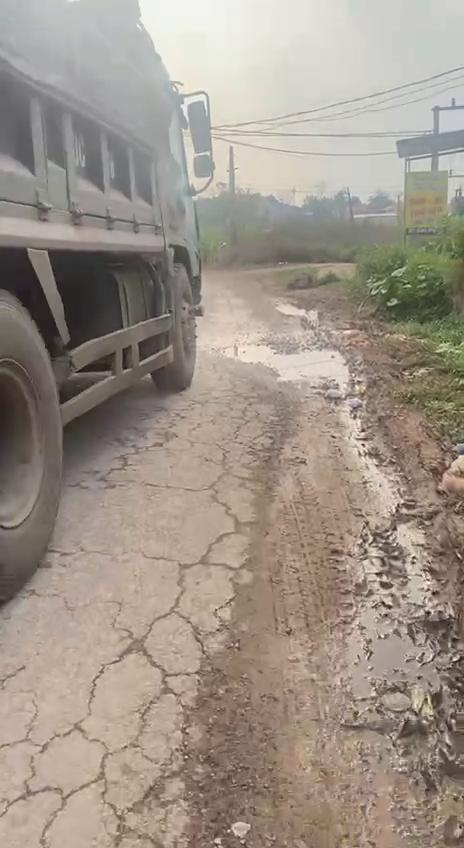pothole: (224, 339, 358, 396)
